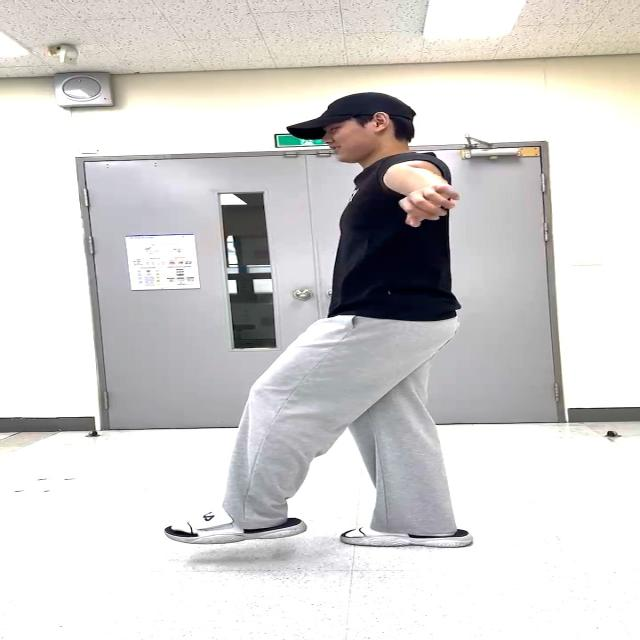leg: (158, 318, 374, 558)
